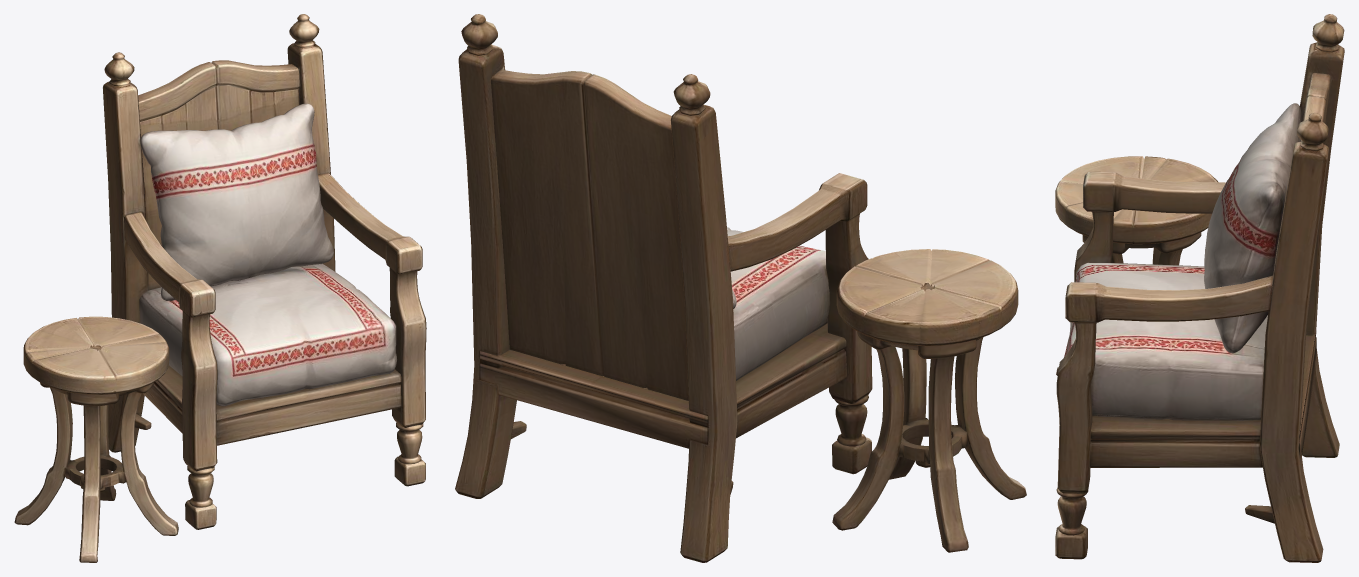
File: act1-a19-3-window-chair.glb
3 renders of one model, left to right at view 1: azimuth 30°, elevation 25°; view 2: azimuth 150°, elevation 25°; view 3: azimuth 270°, elevation 25°, orthographic. The views are drawn at different scales.
Visible parts, largest first — view 1: act1-a19-3-window-chair; view 2: act1-a19-3-window-chair; view 3: act1-a19-3-window-chair.
Part boxes in pixels (left/top/right/bottom): act1-a19-3-window-chair: left=14, top=14, right=426, bottom=562; act1-a19-3-window-chair: left=455, top=14, right=1026, bottom=562; act1-a19-3-window-chair: left=1055, top=14, right=1344, bottom=562.
Bounding box in the file's own units: 1.18 × 1.2 × 0.7147.
1 material, 1 textured.
